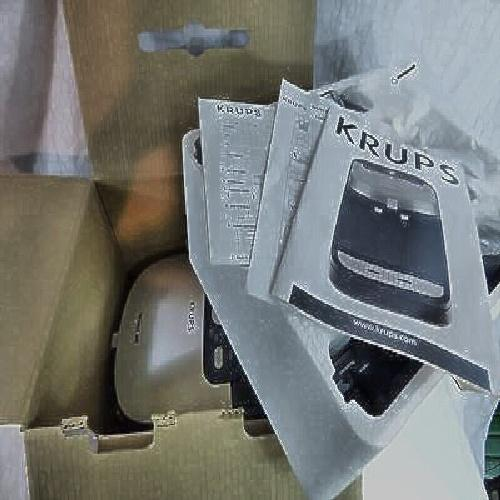coffee_maker: (126, 100, 433, 467)
